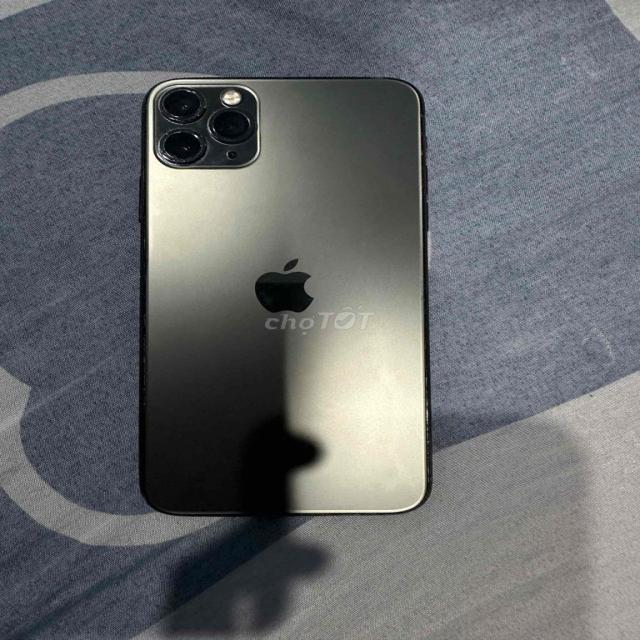gen_11: (134, 70, 438, 533)
